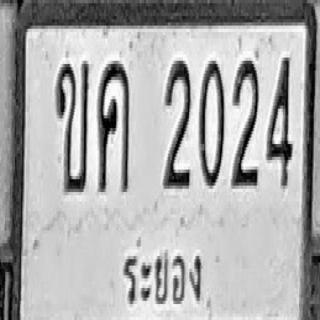A02: (55, 61, 88, 192)
A04: (98, 61, 130, 192)
N00: (198, 58, 224, 186)
N02: (163, 58, 190, 189), (232, 58, 259, 186)
N04: (266, 54, 292, 186)
P53: (121, 235, 208, 310)
